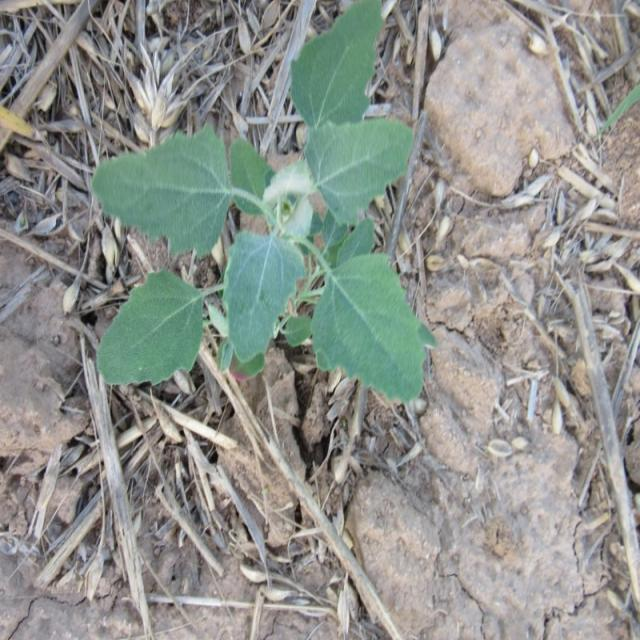ca: (92, 0, 428, 405)
